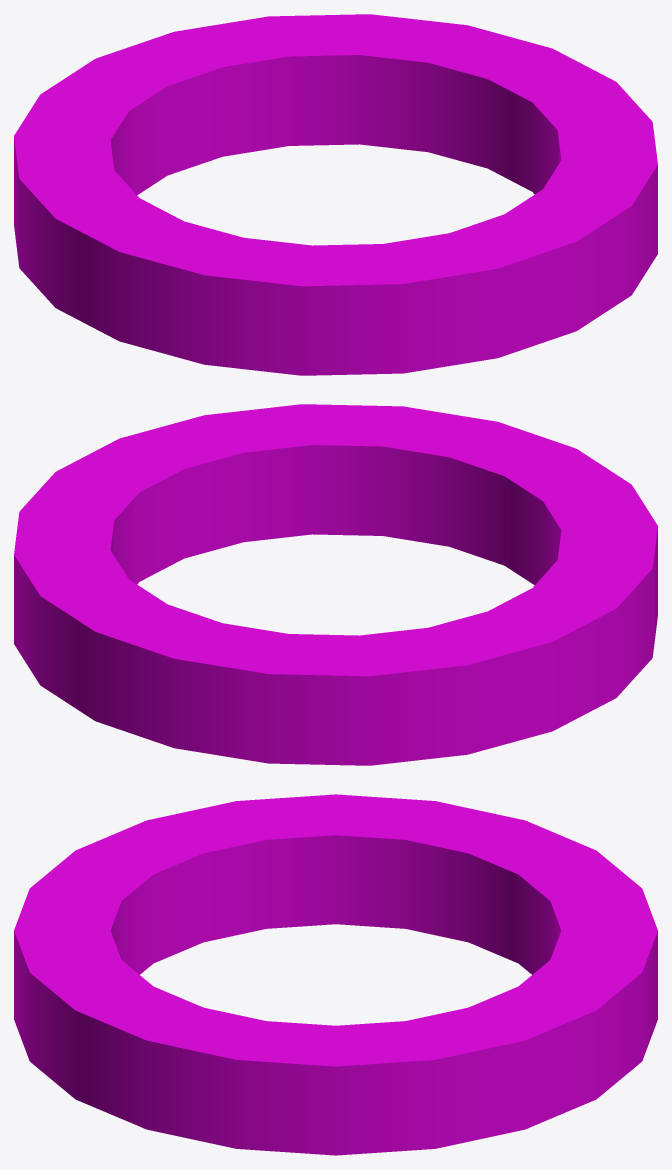
3 views of the same model, one above another, from view 1: azimuth 30°, elevation 25°; view 2: azimuth 150°, elevation 25°; view 3: azimuth 270°, elevation 25° (orthographic).
Visible parts, largest first — view 1: pPipe1; view 2: pPipe1; view 3: pPipe1.
Part boxes in pixels (x1,y1,x2,y2): pPipe1: (14, 14, 657, 375); pPipe1: (14, 404, 657, 765); pPipe1: (14, 794, 657, 1155).
Size of the model in its own units: 1.27 by 0.1938 by 1.27.
